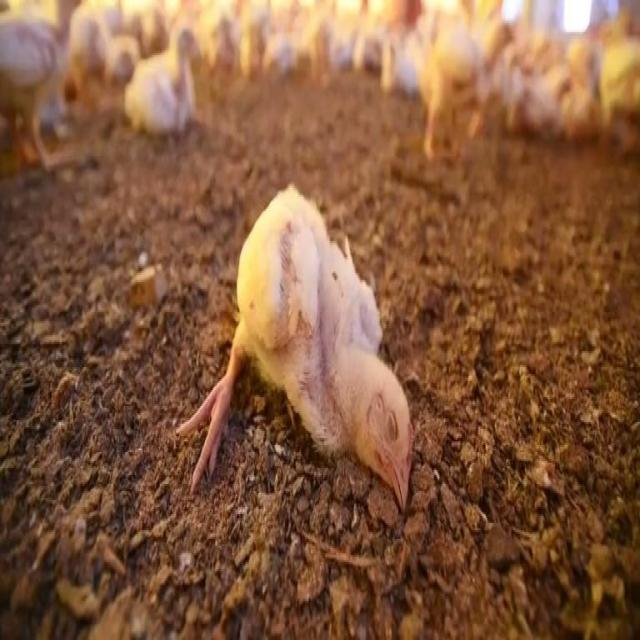Unhealthy: (167, 179, 460, 510)
